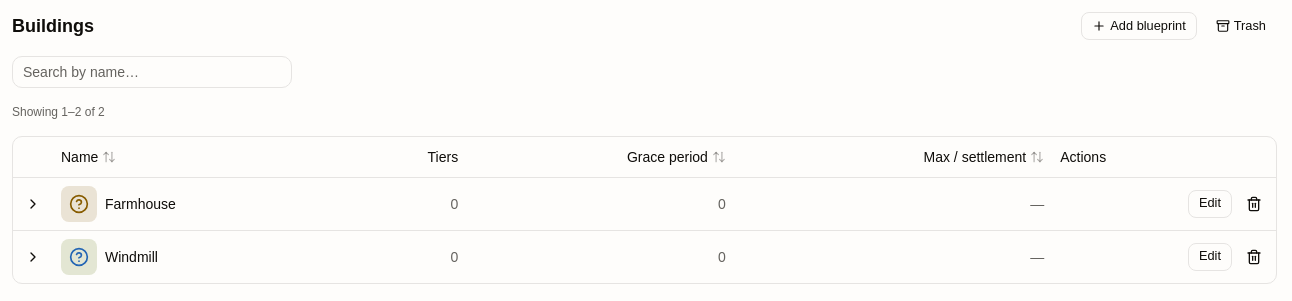
Test case: BuildingsConfigPanel › narrows results via the search input
Check: the text "Farmhouse" is shown, box [105,194,176,214]
Check: the text "Windmill" is shown, box [105,246,158,266]
Type "Farm" into the field named "Search blueprints by name" at (152, 72), box [12,56,292,88]
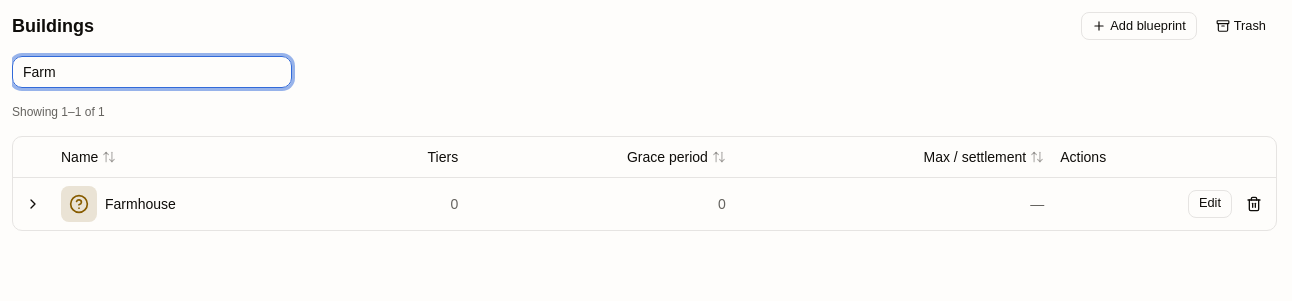
Check: the text "Farmhouse" is shown, box [105,194,176,214]
Check: the text "Windmill" is gone
